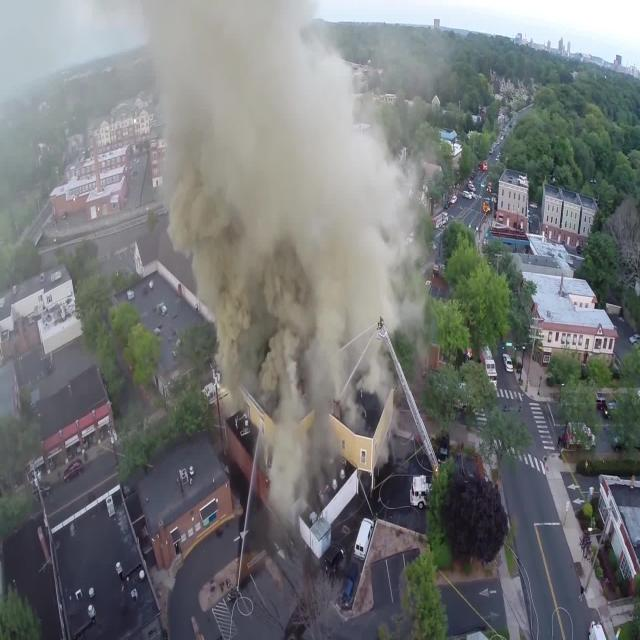smoke: (158, 2, 371, 271), (217, 281, 389, 516)
